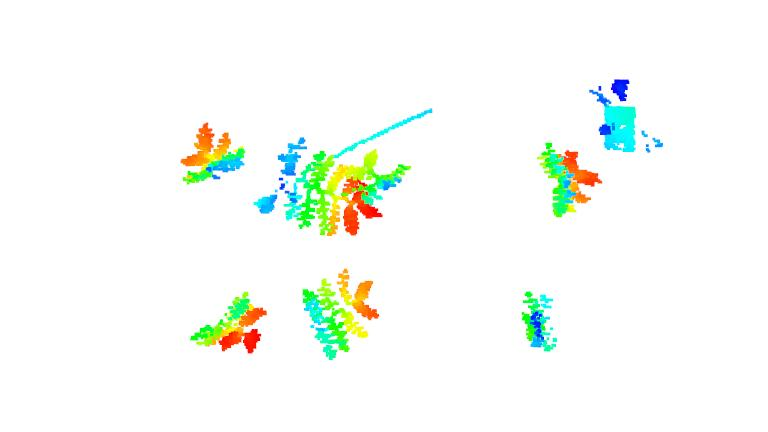chickpea: (253, 138, 379, 240), (302, 270, 380, 363), (188, 291, 271, 355), (538, 141, 602, 220), (175, 120, 248, 184), (363, 149, 422, 201), (518, 287, 561, 353)
